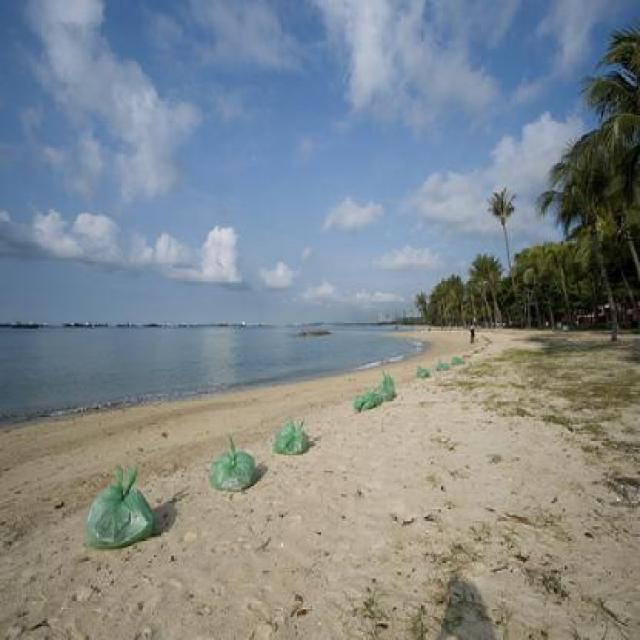garbage: (88, 471, 155, 544), (214, 437, 262, 484), (274, 422, 308, 453), (354, 385, 383, 406), (382, 368, 395, 395), (412, 363, 438, 374), (453, 353, 466, 366), (440, 355, 448, 370)
